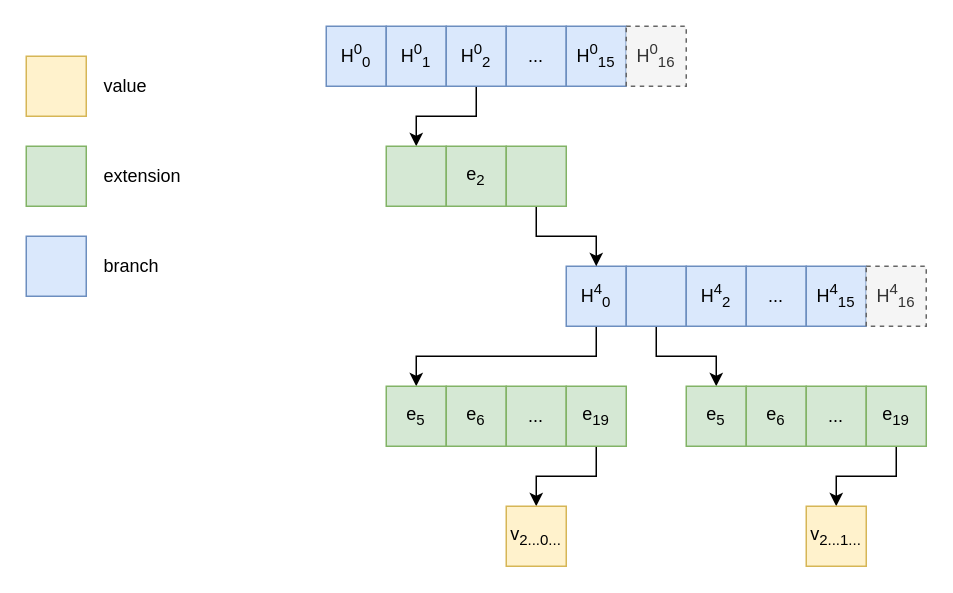
The diagram is 953 pixels wide and 593 high, and some of its shapes have lost their labels. Here are the shapes that lost their labels. From the top down, the centre of each, then its label:
At [415,175]: "e 1".
At [535,175]: "e 3".
At [655,295]: "H 4 1".
